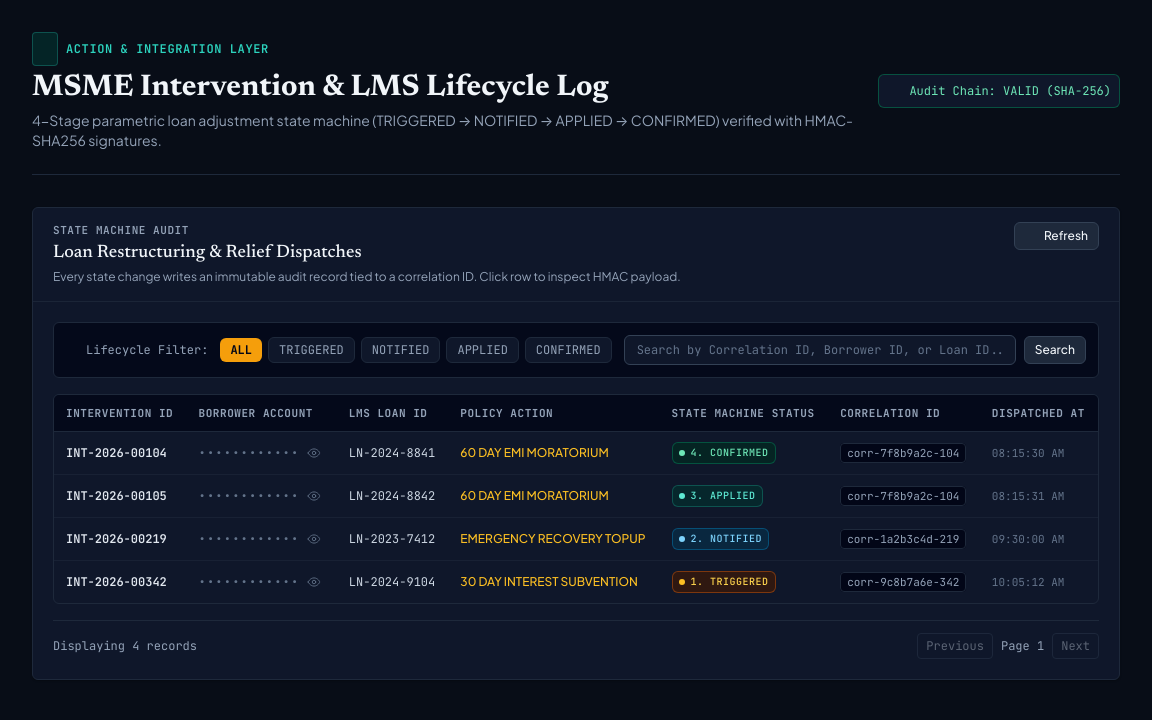
InterventionLog View › opens intervention dossier modal upon row click
Click the text "INT-2026-00104". click: (120, 453)
box: [54, 431, 186, 474]
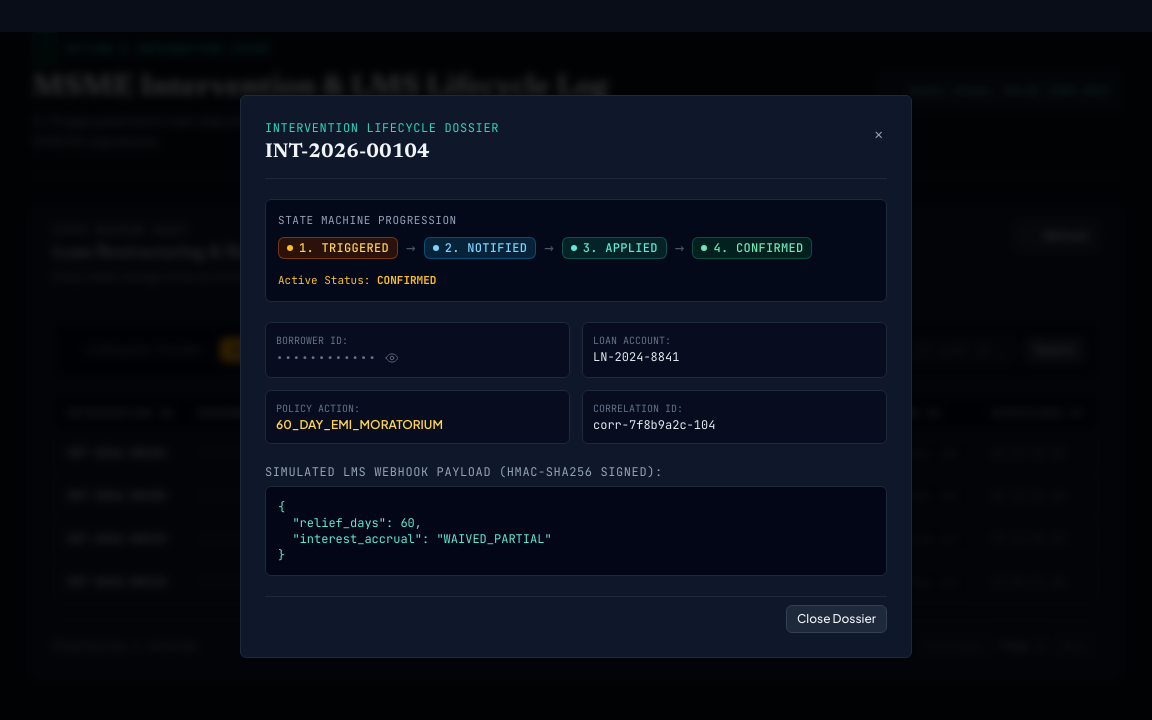
Expected: the text "Intervention Lifecycle Dossier" is shown, [265, 120, 499, 136]
Expected: the text "Simulated LMS Webhook Payload (HMAC-SHA256 Signed):" is shown, [265, 464, 663, 480]
